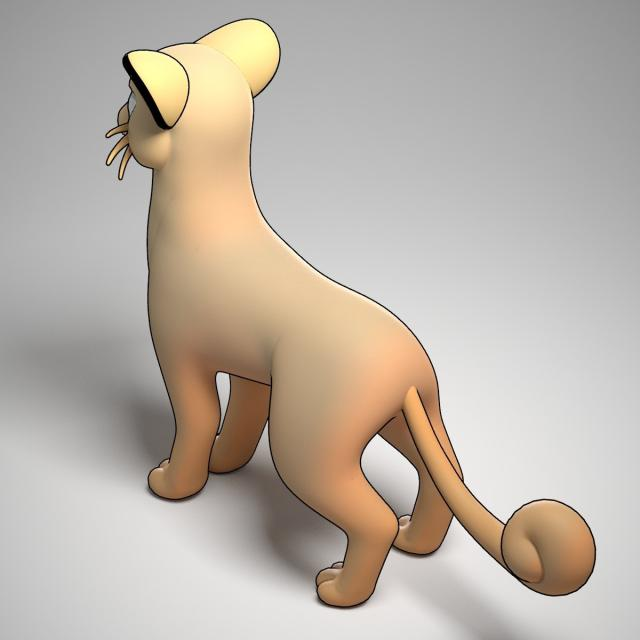Persian: (102, 15, 477, 609)
